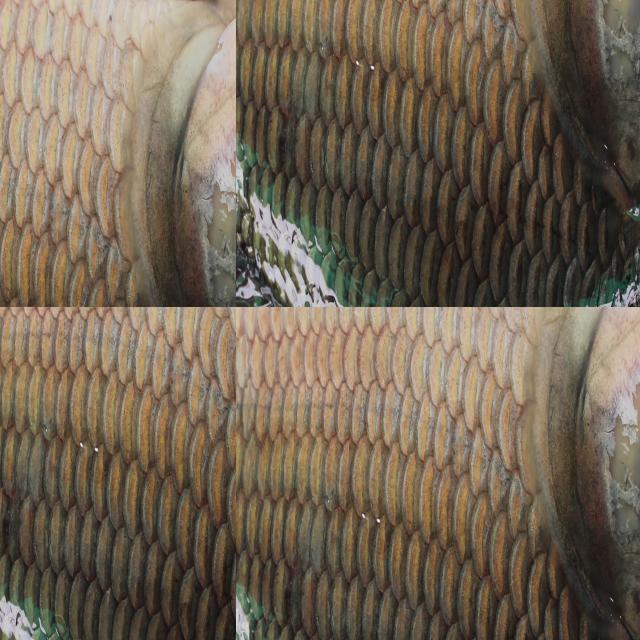fish: (236, 307, 640, 640)
